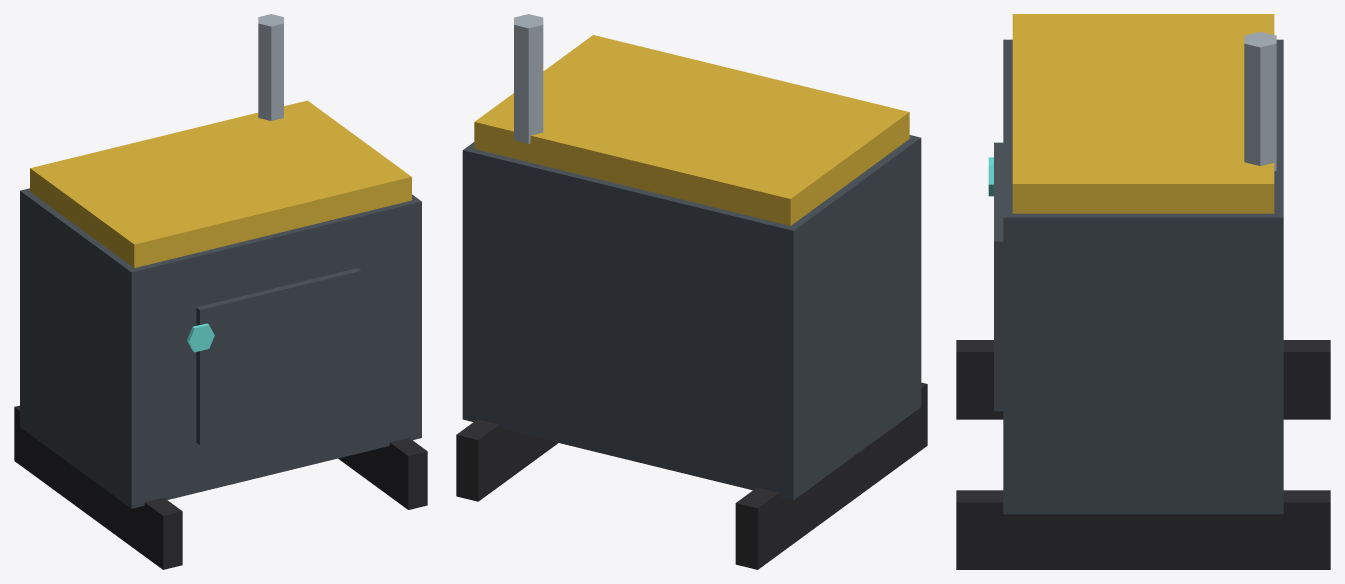
File: FM_Generator_01.glb
3 renders of one model, left to right at view 1: azimuth 30°, elevation 25°; view 2: azimuth 150°, elevation 25°; view 3: azimuth 270°, elevation 25°, orthographic. The views are drawn at different scales.
Parts seen in each view (by area): view 1: FM_Generator_01; view 2: FM_Generator_01; view 3: FM_Generator_01.
Part boxes in pixels (left/top/right/bottom): FM_Generator_01: left=14, top=14, right=427, bottom=569; FM_Generator_01: left=456, top=14, right=927, bottom=569; FM_Generator_01: left=956, top=14, right=1330, bottom=569.
Bounding box in the file's own units: 0.9 × 1.2 × 0.8.
Materials: 1 (1 with a texture image).
